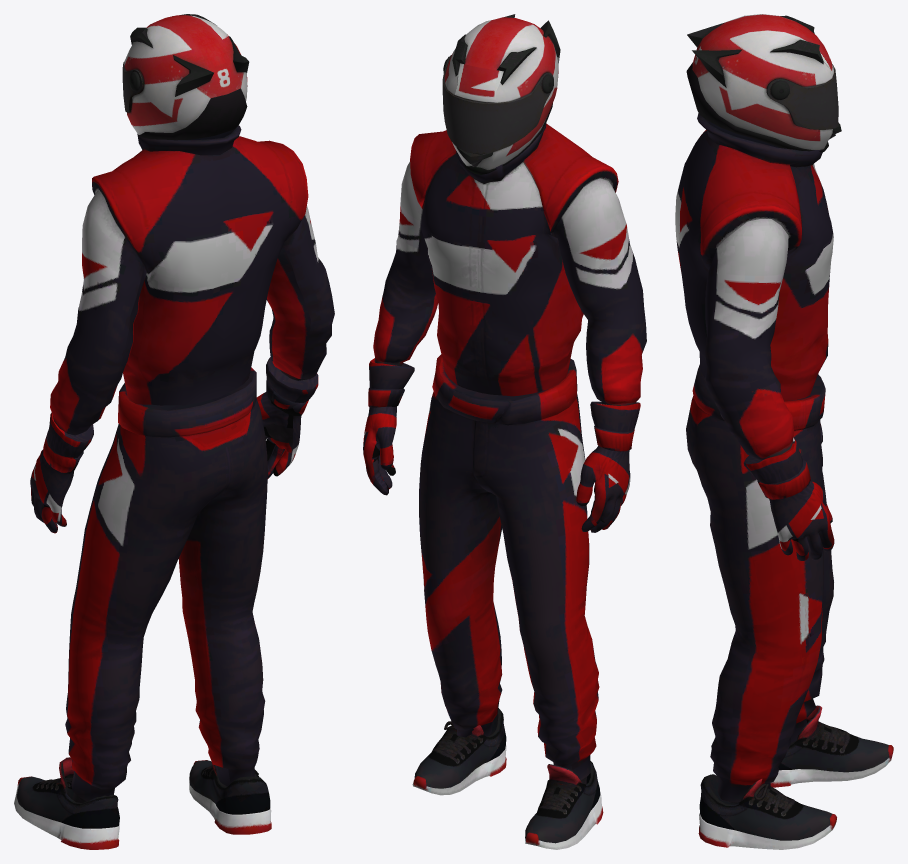
File: airborne.glb
The picture shows the model from 3 angles, left to right: view 1: azimuth 30°, elevation 25°; view 2: azimuth 150°, elevation 25°; view 3: azimuth 270°, elevation 25°; orthographic projection. The views are drawn at different scales.
Parts seen in each view (by area): view 1: Material.003 (×2), Material.001, Material.002, Material.005 (×2); view 2: Material.003 (×2), Material.001, Material.002, Material.005 (×2); view 3: Material.001, Material.003 (×2), Material.002, Material.005 (×2).
Part boxes in pixels (left/top/right/bottom): Material.003 (×2): left=30, top=357, right=318, bottom=803; Material.001: left=50, top=125, right=334, bottom=435; Material.002: left=122, top=14, right=249, bottom=140; Material.005 (×2): left=14, top=757, right=271, bottom=849; Material.003 (×2): left=363, top=354, right=640, bottom=784; Material.001: left=373, top=123, right=646, bottom=405; Material.002: left=442, top=14, right=560, bottom=174; Material.005 (×2): left=412, top=708, right=603, bottom=849; Material.001: left=675, top=113, right=833, bottom=459; Material.003 (×2): left=686, top=364, right=834, bottom=802; Material.002: left=686, top=14, right=841, bottom=152; Material.005 (×2): left=698, top=705, right=893, bottom=849.
Size of the model in its own units: 337 by 966 by 239.
4 materials, 4 textured.
